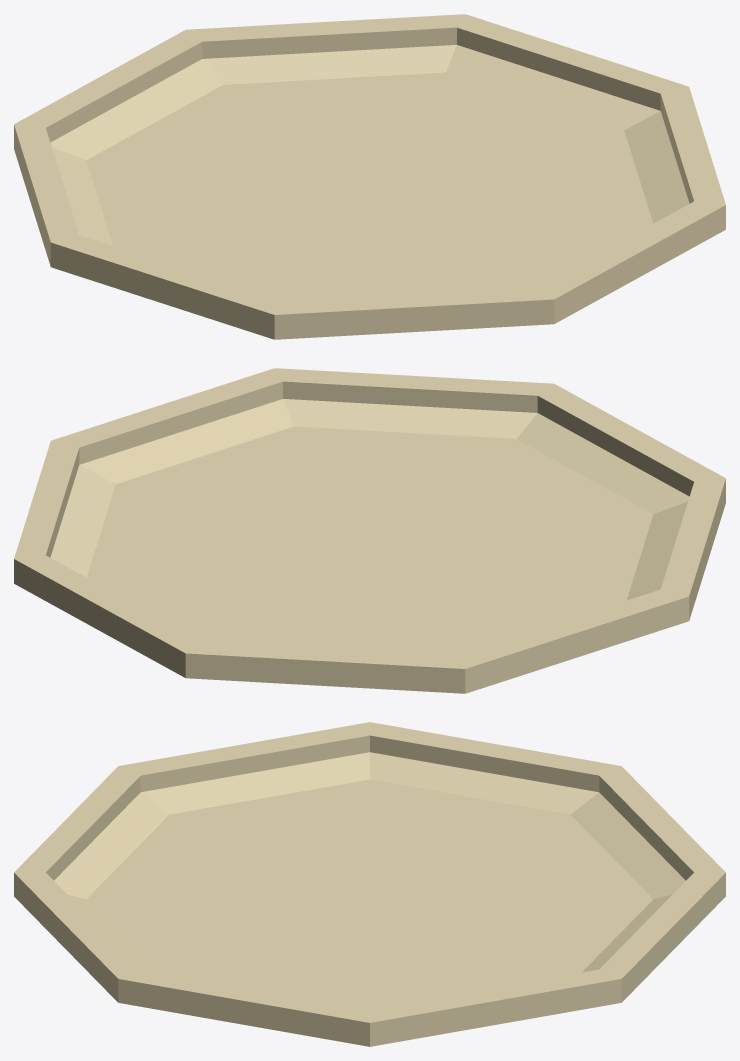
File: plato.fbx
The picture shows the model from 3 angles, top to bottom: view 1: azimuth 30°, elevation 25°; view 2: azimuth 150°, elevation 25°; view 3: azimuth 270°, elevation 25°; orthographic projection. The views are drawn at different scales.
Visible parts, largest first — view 1: Circle; view 2: Circle; view 3: Circle.
Part boxes in pixels (bbox=[...]): Circle: bbox=[14, 14, 725, 339]; Circle: bbox=[14, 368, 725, 693]; Circle: bbox=[14, 722, 725, 1046].
Bounding box in the file's own units: 155 × 13.63 × 155.
